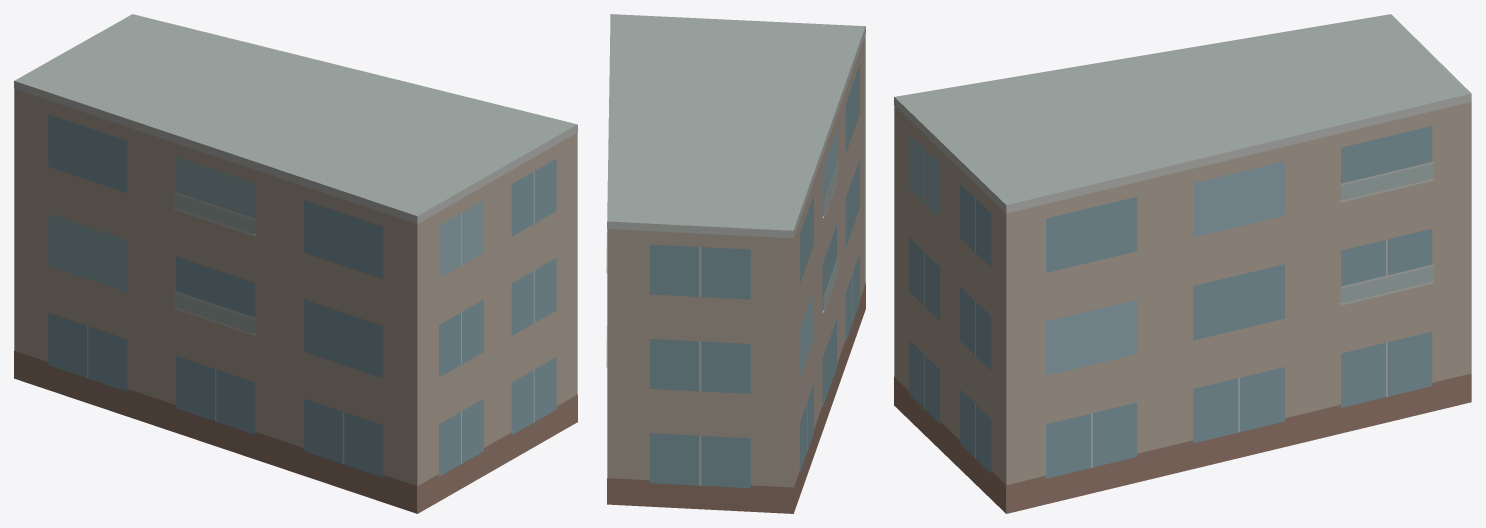
File: survey-upis-32496441.glb
3 views of the same model, side by side, from view 1: azimuth 30°, elevation 25°; view 2: azimuth 150°, elevation 25°; view 3: azimuth 270°, elevation 25° (orthographic). The views are drawn at different scales.
Visible parts, largest first — view 1: survey-upis-32496441.tmp; view 2: survey-upis-32496441.tmp; view 3: survey-upis-32496441.tmp.
Part boxes in pixels (x1,y1,x2,y2): survey-upis-32496441.tmp: [14, 14, 577, 513]; survey-upis-32496441.tmp: [606, 14, 865, 513]; survey-upis-32496441.tmp: [894, 14, 1471, 513].
Size of the model in its own units: 12.17 by 9.15 by 15.53.
